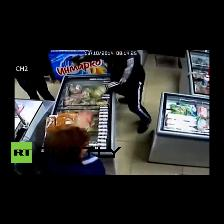person: (71, 50, 151, 133), (44, 126, 105, 174), (14, 51, 54, 100)
